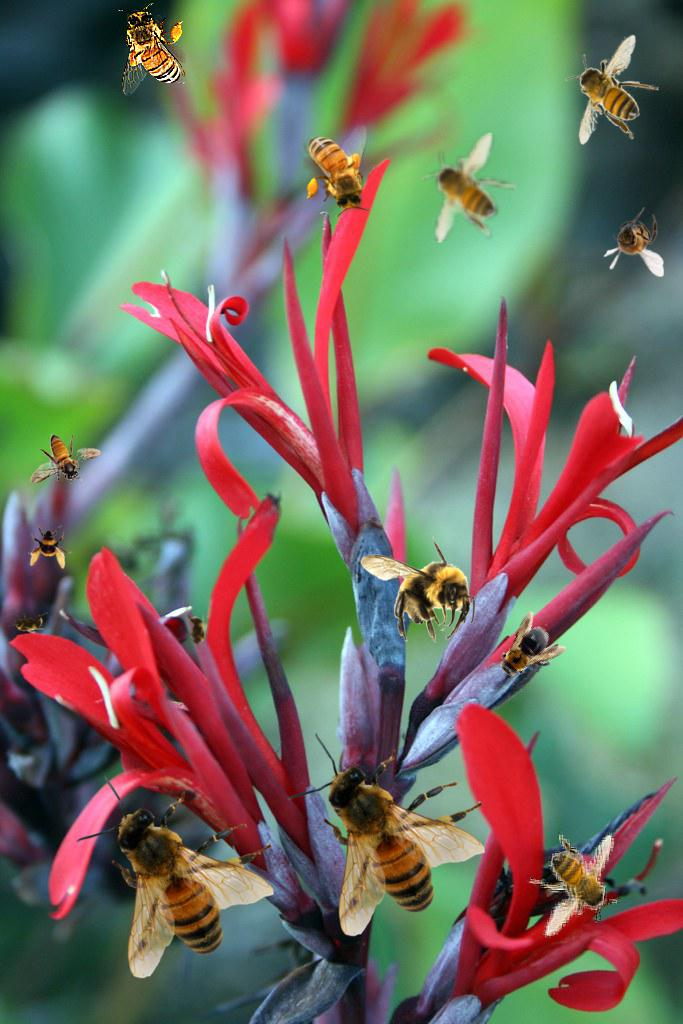Bee: (75, 775, 274, 979), (286, 733, 485, 937), (521, 824, 628, 946), (360, 536, 475, 643), (565, 34, 659, 145), (422, 132, 516, 243), (483, 610, 569, 696), (303, 124, 371, 217), (118, 3, 186, 96), (603, 207, 664, 277), (30, 434, 101, 484), (28, 525, 72, 569), (186, 611, 208, 651), (8, 612, 48, 634)
